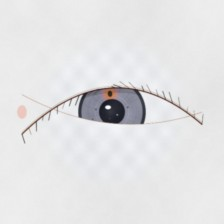foreign_body_visible: (95, 82, 125, 106)
